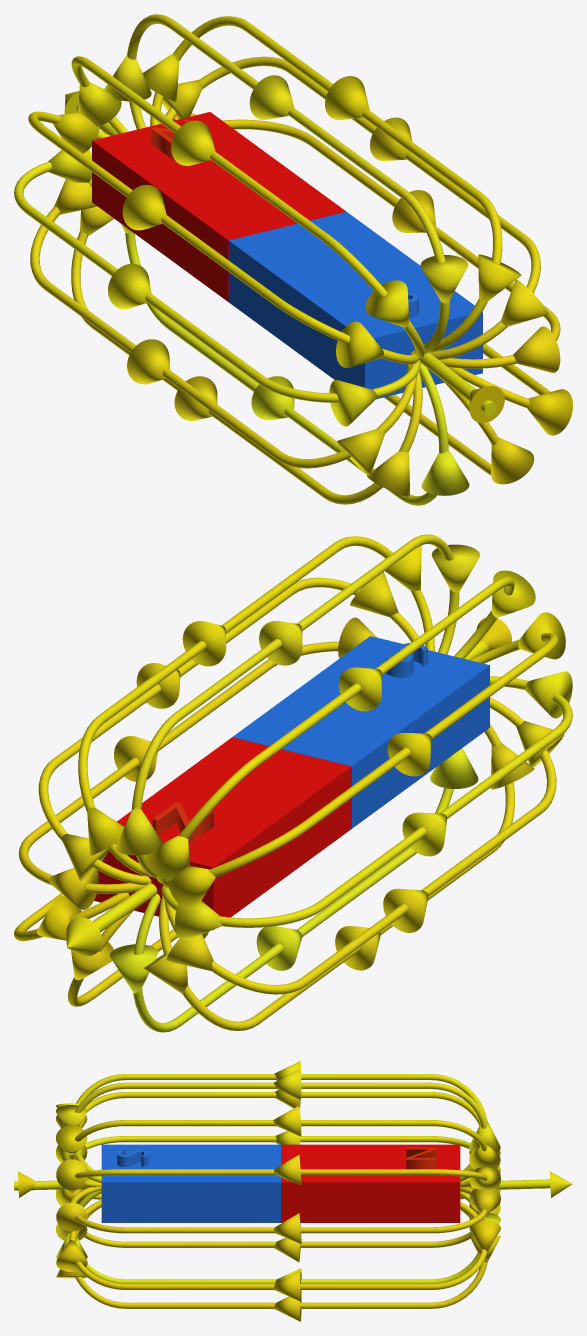
Rendered from magneticFieldLinesMagnetForGltf.gltf.
3 views of the same model, one above another, from view 1: azimuth 30°, elevation 25°; view 2: azimuth 150°, elevation 25°; view 3: azimuth 270°, elevation 25° (orthographic). The views are drawn at different scales.
Parts seen in each view (by area): view 1: Cube.001, Cube, Cone.005, Cone.004, Cone.006, Cone.009, Cone.007, Cone.008, Cone.003, Cone.002, Cone.001, Cone.010 (+4 smaller); view 2: Cube, Cube.001, Cone.004, Cone.005, Cone.006, Cone.007, Cone.008, Cone.009, Cone.002, Cone.003, Cone.001, Cone.010 (+7 smaller); view 3: Cube.001, Cube, Cone.001, Cone.011, Cone.005, Cone.003, Cone.004, Cone.012, Cone.010, Cone.007, Cone.006, Cone.008 (+6 smaller).
Boxes of the visible parts, box(x1,y1,x2,y2) form: Cube.001: box(228, 211, 482, 399); Cube: box(92, 112, 346, 301); Cone.005: box(143, 16, 521, 352); Cone.004: box(104, 14, 468, 354); Cone.006: box(71, 56, 424, 358); Cone.009: box(30, 177, 417, 475); Cone.007: box(14, 149, 420, 426); Cone.008: box(28, 111, 418, 367); Cone.003: box(160, 56, 548, 359); Cone.002: box(121, 224, 469, 505); Cone.001: box(173, 113, 560, 372); Cone.010: box(71, 206, 422, 504); Cube: box(94, 737, 351, 929); Cube.001: box(232, 636, 489, 828); Cone.004: box(115, 534, 479, 878); Cone.005: box(78, 536, 434, 876); Cone.006: box(146, 570, 535, 883); Cone.007: box(161, 671, 572, 938); Cone.008: box(162, 612, 565, 909); Cone.009: box(164, 697, 564, 994); Cone.002: box(110, 748, 478, 1032); Cone.003: box(38, 572, 418, 885); Cone.001: box(18, 617, 376, 909); Cone.010: box(144, 724, 534, 1030); Cube.001: box(101, 1144, 280, 1222); Cube: box(281, 1144, 460, 1222); Cone.001: box(56, 1186, 500, 1243); Cone.011: box(56, 1200, 500, 1301); Cone.005: box(56, 1105, 500, 1182); Cone.003: box(56, 1155, 500, 1190); Cone.004: box(56, 1069, 500, 1176); Cone.012: box(56, 1206, 500, 1321); Cone.010: box(56, 1195, 500, 1262); Cone.007: box(56, 1126, 500, 1181); Cone.006: box(56, 1061, 499, 1169); Cone.008: box(56, 1082, 500, 1154).
Bounding box in the file's own units: 5.6 × 5.59 × 12.48.
